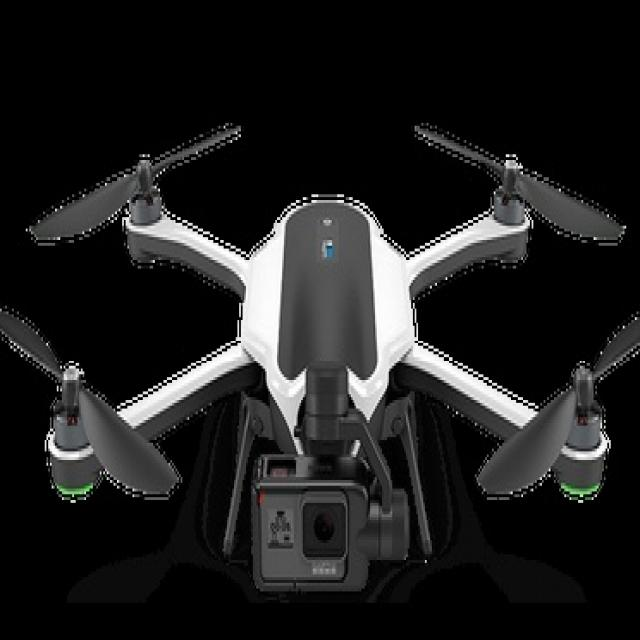drone: (4, 68, 638, 630)
